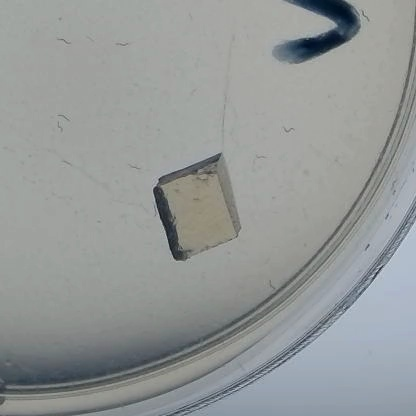worm: (52, 35, 77, 47), (253, 152, 272, 164), (360, 8, 374, 24), (280, 124, 300, 135), (83, 30, 97, 45), (57, 158, 76, 169), (127, 160, 143, 173), (113, 39, 135, 48), (57, 109, 71, 122), (48, 121, 69, 129)
